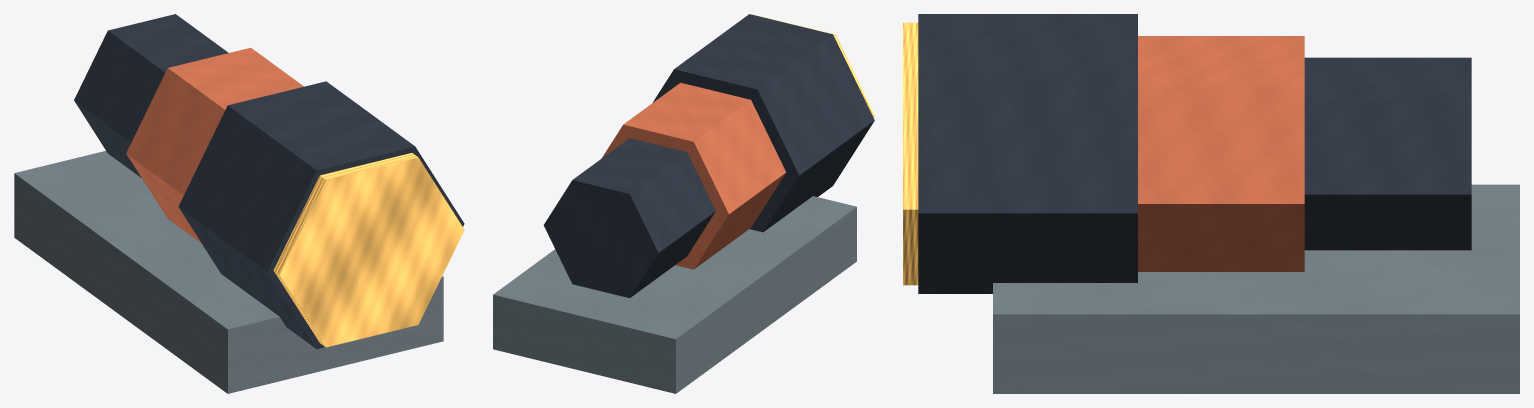
File: atlas100-s024-a05.glb
3 views of the same model, side by side, from view 1: azimuth 30°, elevation 25°; view 2: azimuth 150°, elevation 25°; view 3: azimuth 270°, elevation 25° (orthographic). The views are drawn at different scales.
Visible parts, largest first — view 1: atlas100-s024-a05:part-004, atlas100-s024-a05:part-002, atlas100-s024-a05:part-003, atlas100-s024-a05:part-001, atlas100-s024-a05:part-000; view 2: atlas100-s024-a05:part-004, atlas100-s024-a05:part-002, atlas100-s024-a05:part-000, atlas100-s024-a05:part-001, atlas100-s024-a05:part-003; view 3: atlas100-s024-a05:part-004, atlas100-s024-a05:part-002, atlas100-s024-a05:part-001, atlas100-s024-a05:part-000, atlas100-s024-a05:part-003.
Boxes of the visible parts, x1,y1,x2,y2 form: atlas100-s024-a05:part-004: [14, 151, 443, 393]; atlas100-s024-a05:part-002: [178, 81, 464, 349]; atlas100-s024-a05:part-003: [273, 153, 464, 347]; atlas100-s024-a05:part-001: [126, 47, 303, 243]; atlas100-s024-a05:part-000: [74, 14, 228, 177]; atlas100-s024-a05:part-004: [493, 196, 856, 393]; atlas100-s024-a05:part-002: [652, 14, 874, 232]; atlas100-s024-a05:part-000: [543, 138, 715, 298]; atlas100-s024-a05:part-001: [602, 82, 786, 269]; atlas100-s024-a05:part-003: [757, 15, 874, 117]; atlas100-s024-a05:part-004: [993, 184, 1519, 393]; atlas100-s024-a05:part-002: [918, 14, 1137, 293]; atlas100-s024-a05:part-001: [1138, 36, 1304, 271]; atlas100-s024-a05:part-000: [1304, 57, 1471, 250]; atlas100-s024-a05:part-003: [903, 22, 918, 285].
Bounding box in the file's own units: 0.3822 × 0.3916 × 0.7671.
Materials: 4 (4 with a texture image).
